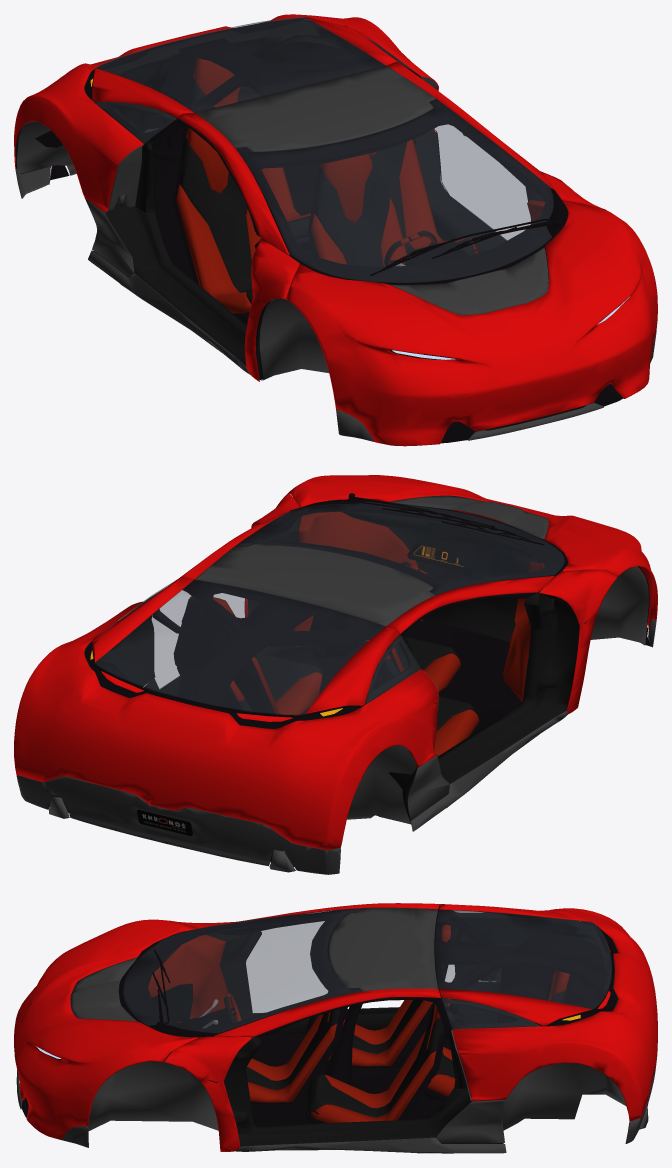
The picture shows the model from 3 angles, top to bottom: view 1: azimuth 30°, elevation 25°; view 2: azimuth 150°, elevation 25°; view 3: azimuth 270°, elevation 25°; orthographic projection. The views are drawn at different scales.
Parts seen in each view (by area): view 1: BodyRearPanelsColor1, BodyWindshield, BodyWindshieldGasket, BodyRoofPanel, InteriorDashSides, InteriorSeatsColor2, InteriorMid, InteriorDashMid, BodyUnderside, InteriorSteeringDash; view 2: BodyRearPanelsColor1, BodyWindshield, BodyWindshieldGasket, BodyRoofPanel, InteriorDashMid, InteriorMid, InteriorDashSides, BodyUnderside, InteriorSeatsColor2, InteriorSteeringDash, License Plate; view 3: BodyRearPanelsColor1, BodyWindshield, BodyWindshieldGasket, BodyRoofPanel, InteriorDashSides, BodyUnderside, InteriorMid, InteriorDashMid, InteriorSeatsColor2, InteriorSteeringDash.
Boxes of the visible parts, x1,y1,x2,y2 form: BodyRearPanelsColor1: (14,14,657,446); BodyWindshield: (95,16,553,282); BodyWindshieldGasket: (16,17,623,443); BodyRoofPanel: (15,66,656,441); InteriorDashSides: (176,58,545,358); InteriorSeatsColor2: (180,78,475,303); InteriorMid: (93,131,562,379); InteriorDashMid: (15,20,512,359); BodyUnderside: (16,76,437,380); InteriorSteeringDash: (407,241,468,265); BodyRearPanelsColor1: (14,475,657,850); BodyWindshield: (95,501,564,714); BodyWindshieldGasket: (85,493,651,765); BodyRoofPanel: (16,495,656,874); InteriorDashMid: (49,508,544,866); InteriorMid: (142,515,587,823); InteriorDashSides: (189,500,544,756); BodyUnderside: (48,566,648,872); InteriorSeatsColor2: (181,614,475,731); InteriorSteeringDash: (407,538,476,572); License Plate: (137,809,192,835); BodyRearPanelsColor1: (14,903,657,1151); BodyWindshield: (123,908,611,1033); BodyWindshieldGasket: (19,905,617,1150); BodyRoofPanel: (16,907,657,1153); InteriorDashSides: (148,924,569,1122); BodyUnderside: (88,1030,648,1130); InteriorMid: (206,927,503,1149); InteriorDashMid: (119,910,618,1088); InteriorSeatsColor2: (246,964,564,1117); InteriorSteeringDash: (151,983,192,1021).
Bounding box in the file's own units: 2.24 × 1.06 × 4.36.
15 materials, 3 textured.
